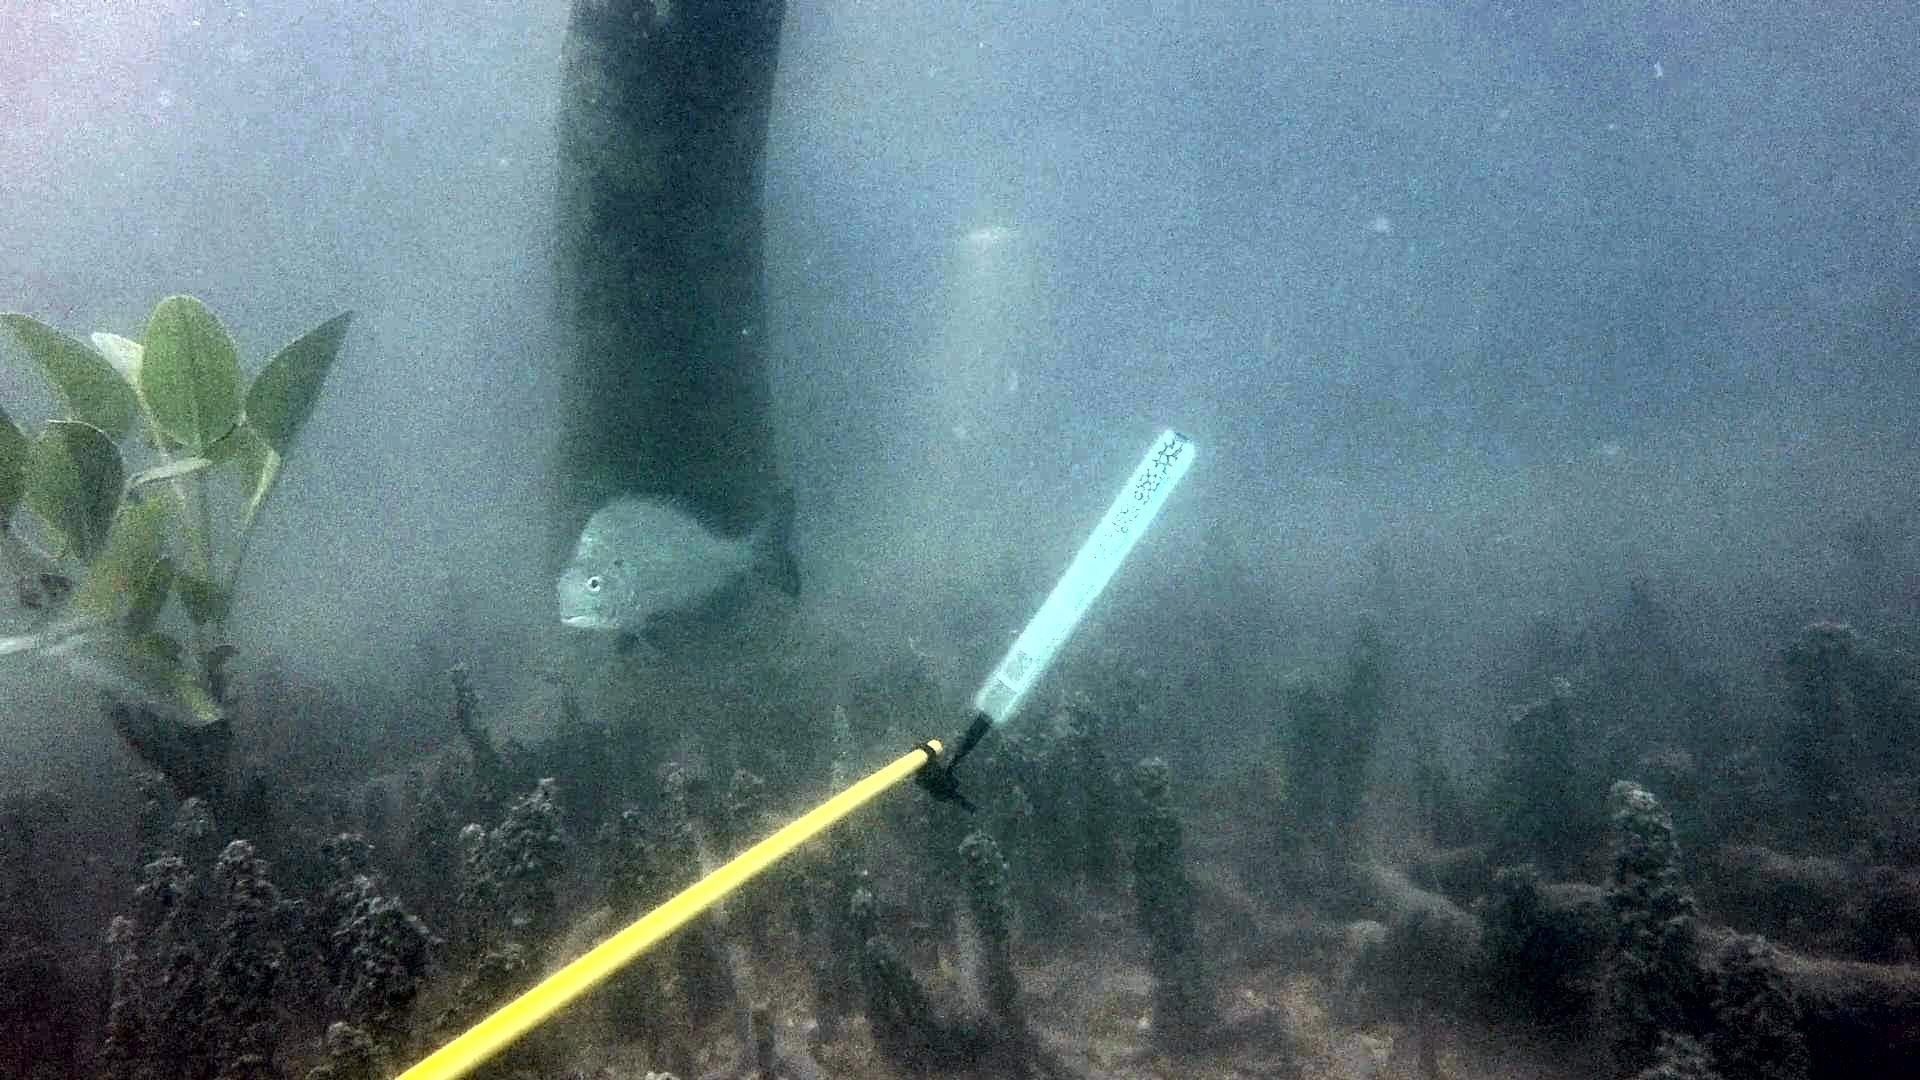acanthopagrus palmaris: (545, 468, 837, 648)
